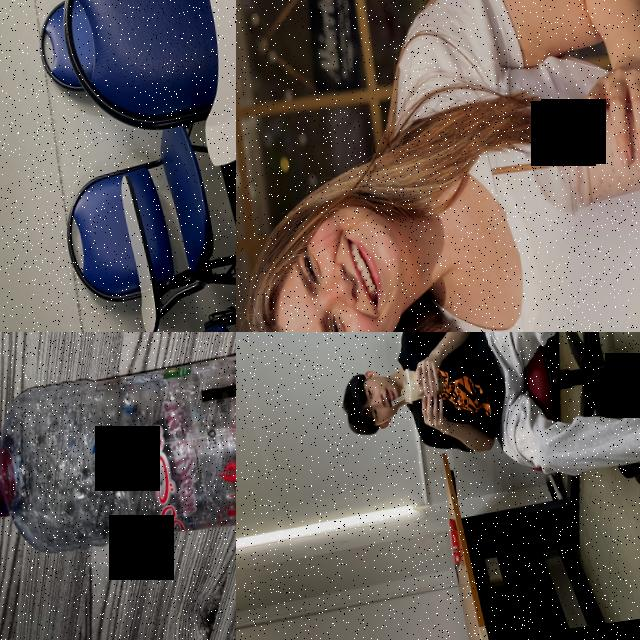bottle: (0, 332, 236, 570)
cup: (522, 86, 640, 222), (399, 362, 446, 404)
